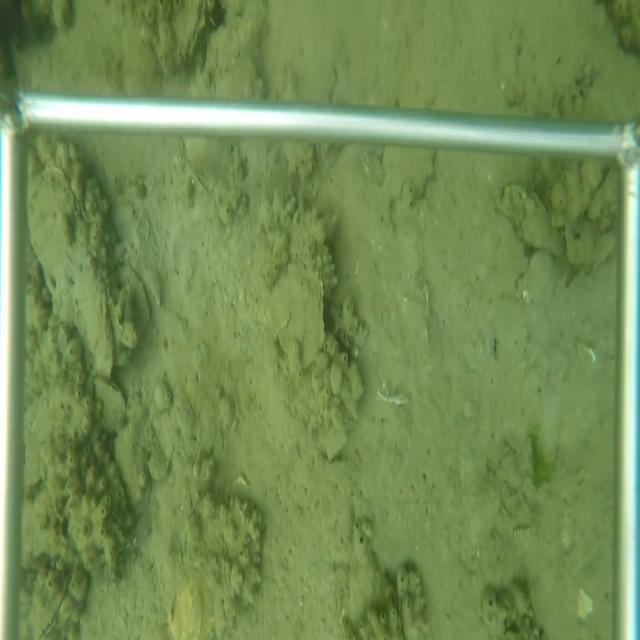Oyster-Closed: (264, 259, 327, 382), (90, 369, 129, 437), (117, 264, 154, 332), (170, 4, 209, 63)
Oyster-Indeterminate: (28, 162, 118, 377), (500, 180, 566, 256)
